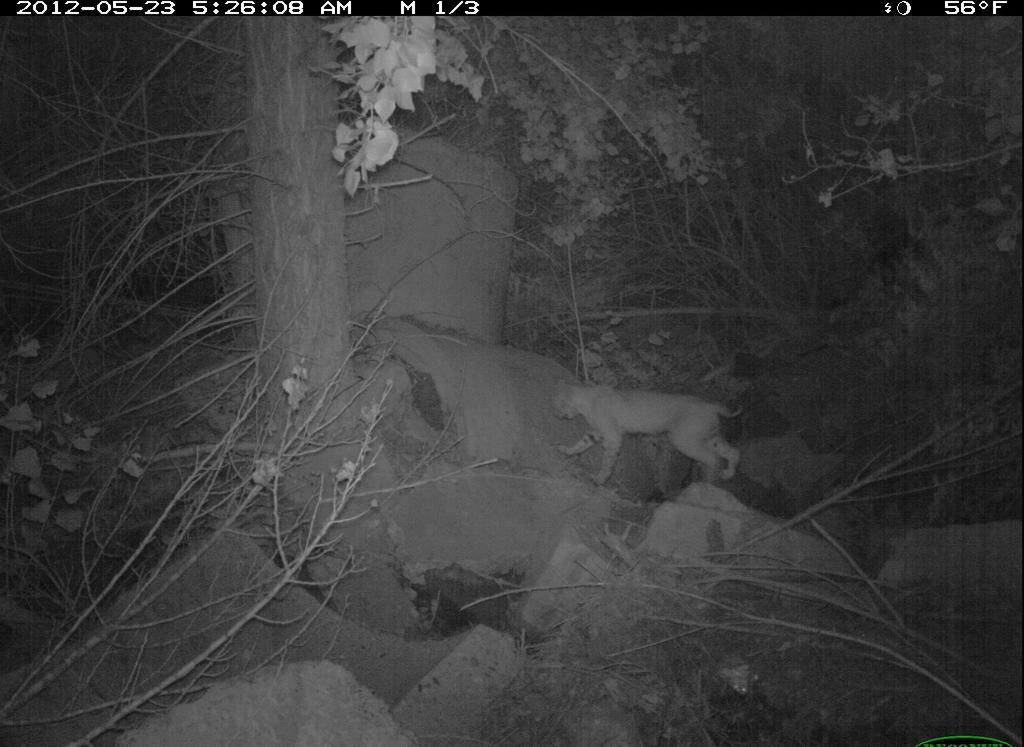bobcat: (541, 370, 752, 493)
